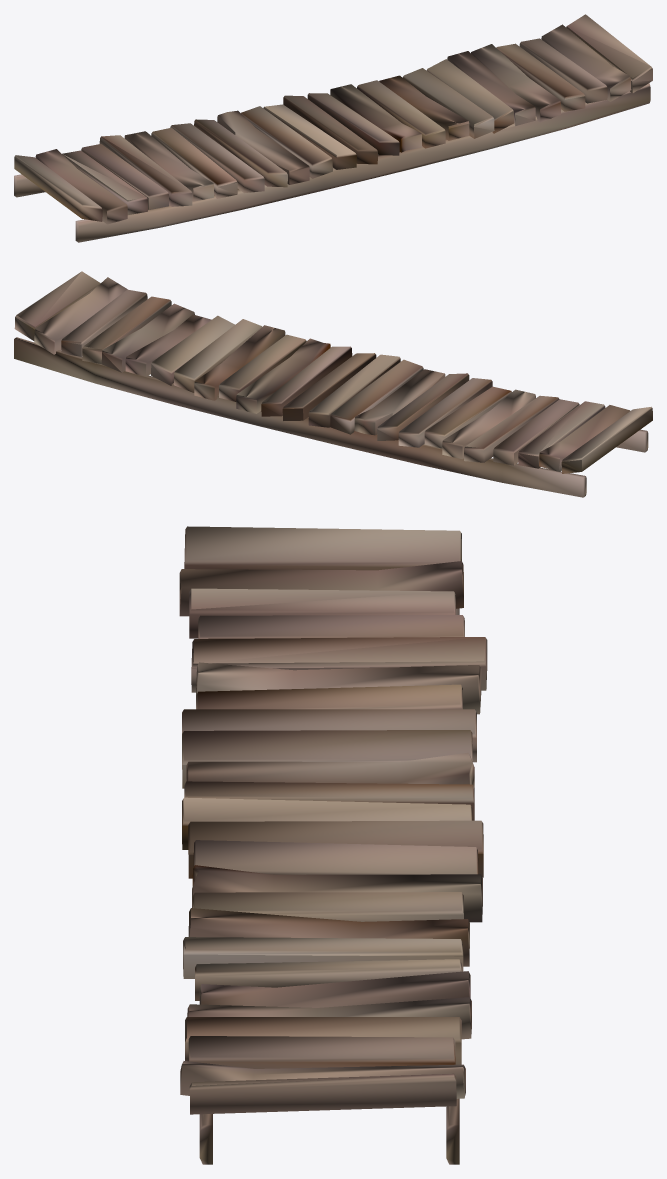
The model's file is wooden.glb.
The picture shows the model from 3 angles, top to bottom: view 1: azimuth 30°, elevation 25°; view 2: azimuth 150°, elevation 25°; view 3: azimuth 270°, elevation 25°; orthographic projection. The views are drawn at different scales.
Visible parts, largest first — view 1: models/anubis/market/wooden_walkway.vmdl_c.wooden_walkway_bg; view 2: models/anubis/market/wooden_walkway.vmdl_c.wooden_walkway_bg; view 3: models/anubis/market/wooden_walkway.vmdl_c.wooden_walkway_bg.
Part boxes in pixels (x1,y1,x2,y2): models/anubis/market/wooden_walkway.vmdl_c.wooden_walkway_bg: [14, 14, 652, 242]; models/anubis/market/wooden_walkway.vmdl_c.wooden_walkway_bg: [14, 271, 652, 497]; models/anubis/market/wooden_walkway.vmdl_c.wooden_walkway_bg: [179, 526, 487, 1164].
Bounding box in the file's own units: 3 × 0.2542 × 0.7.
